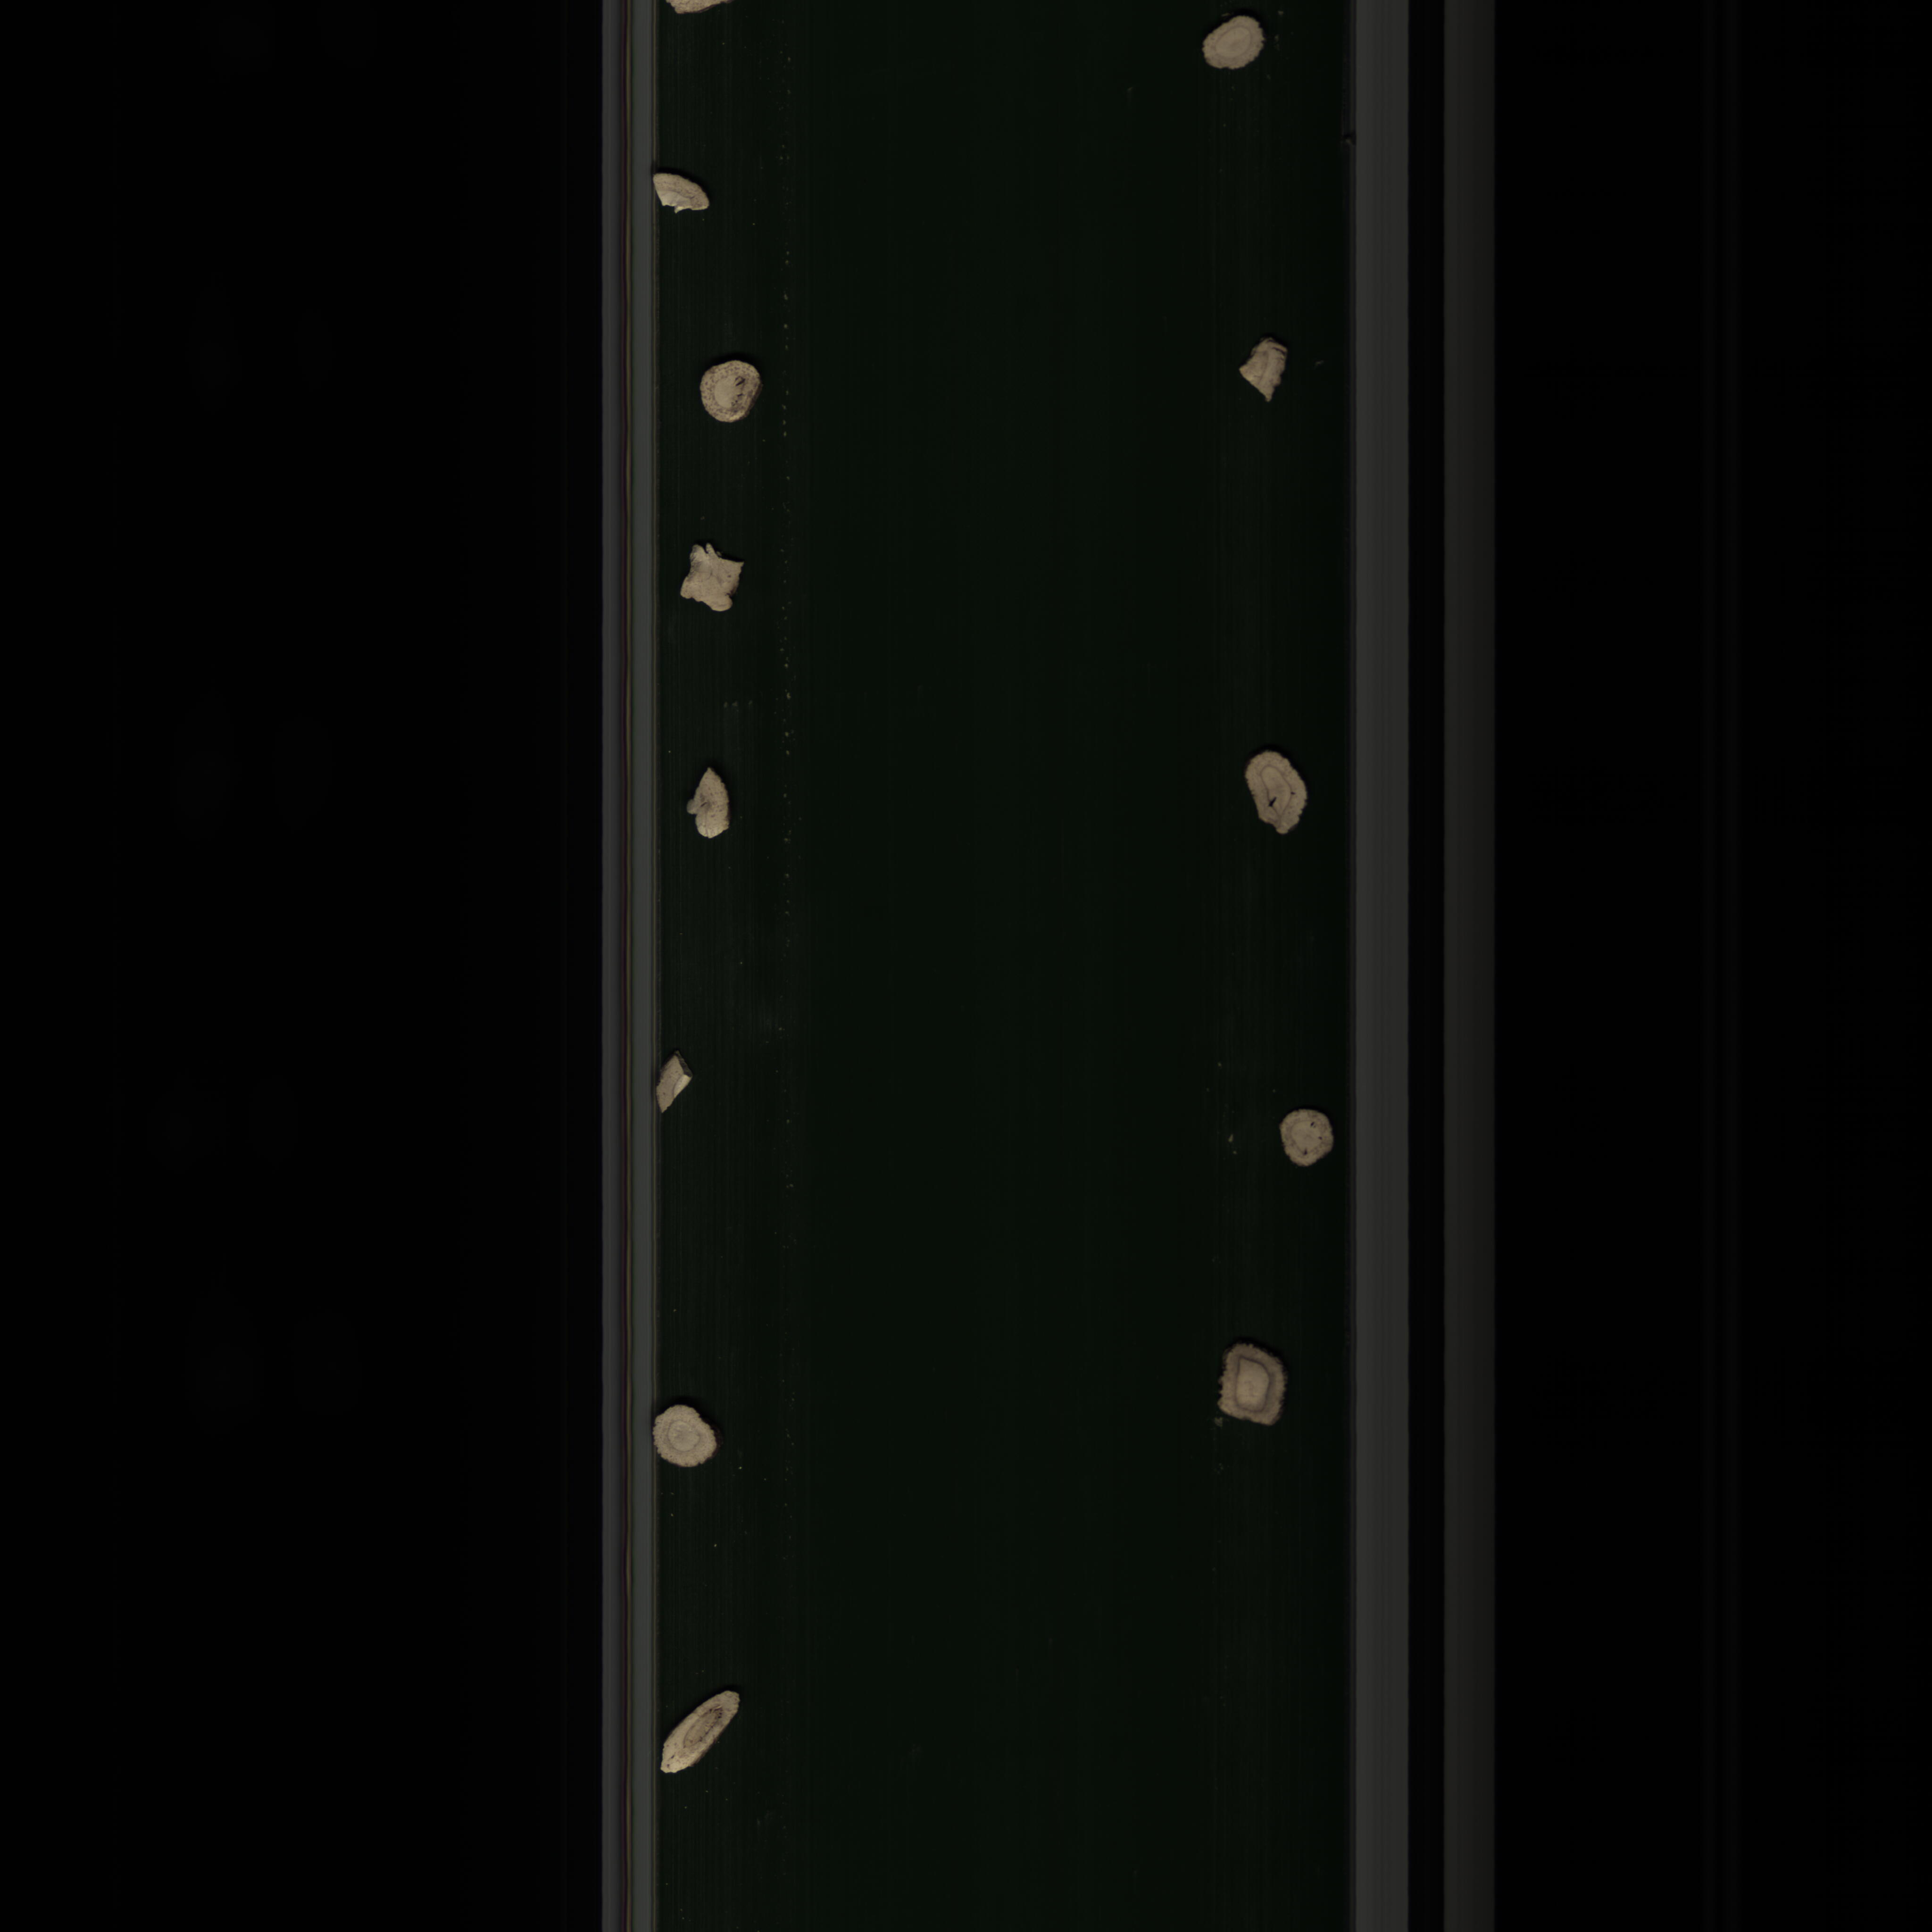debris: (676, 761, 738, 855), (679, 536, 747, 619), (642, 159, 722, 225), (1228, 333, 1293, 410)
distortion: (653, 1684, 750, 1785)
hole: (1226, 743, 1320, 851), (1267, 1100, 1343, 1180), (699, 354, 770, 432), (646, 1051, 699, 1116)
moldy: (1207, 1334, 1295, 1433)
